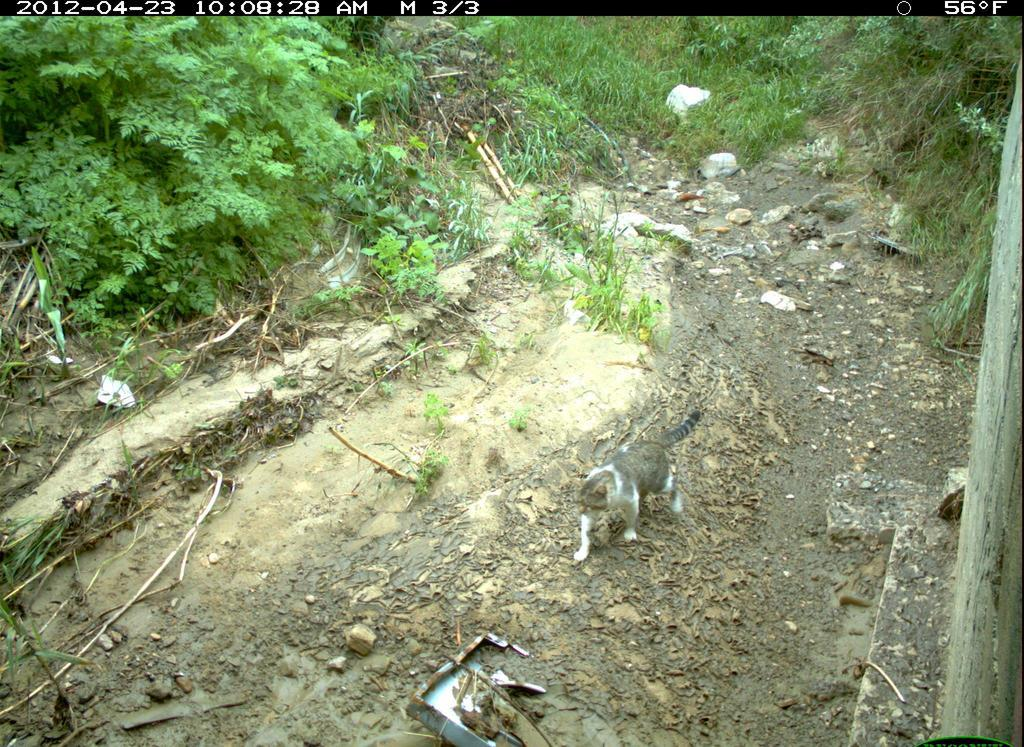cat: (555, 410, 716, 564)
